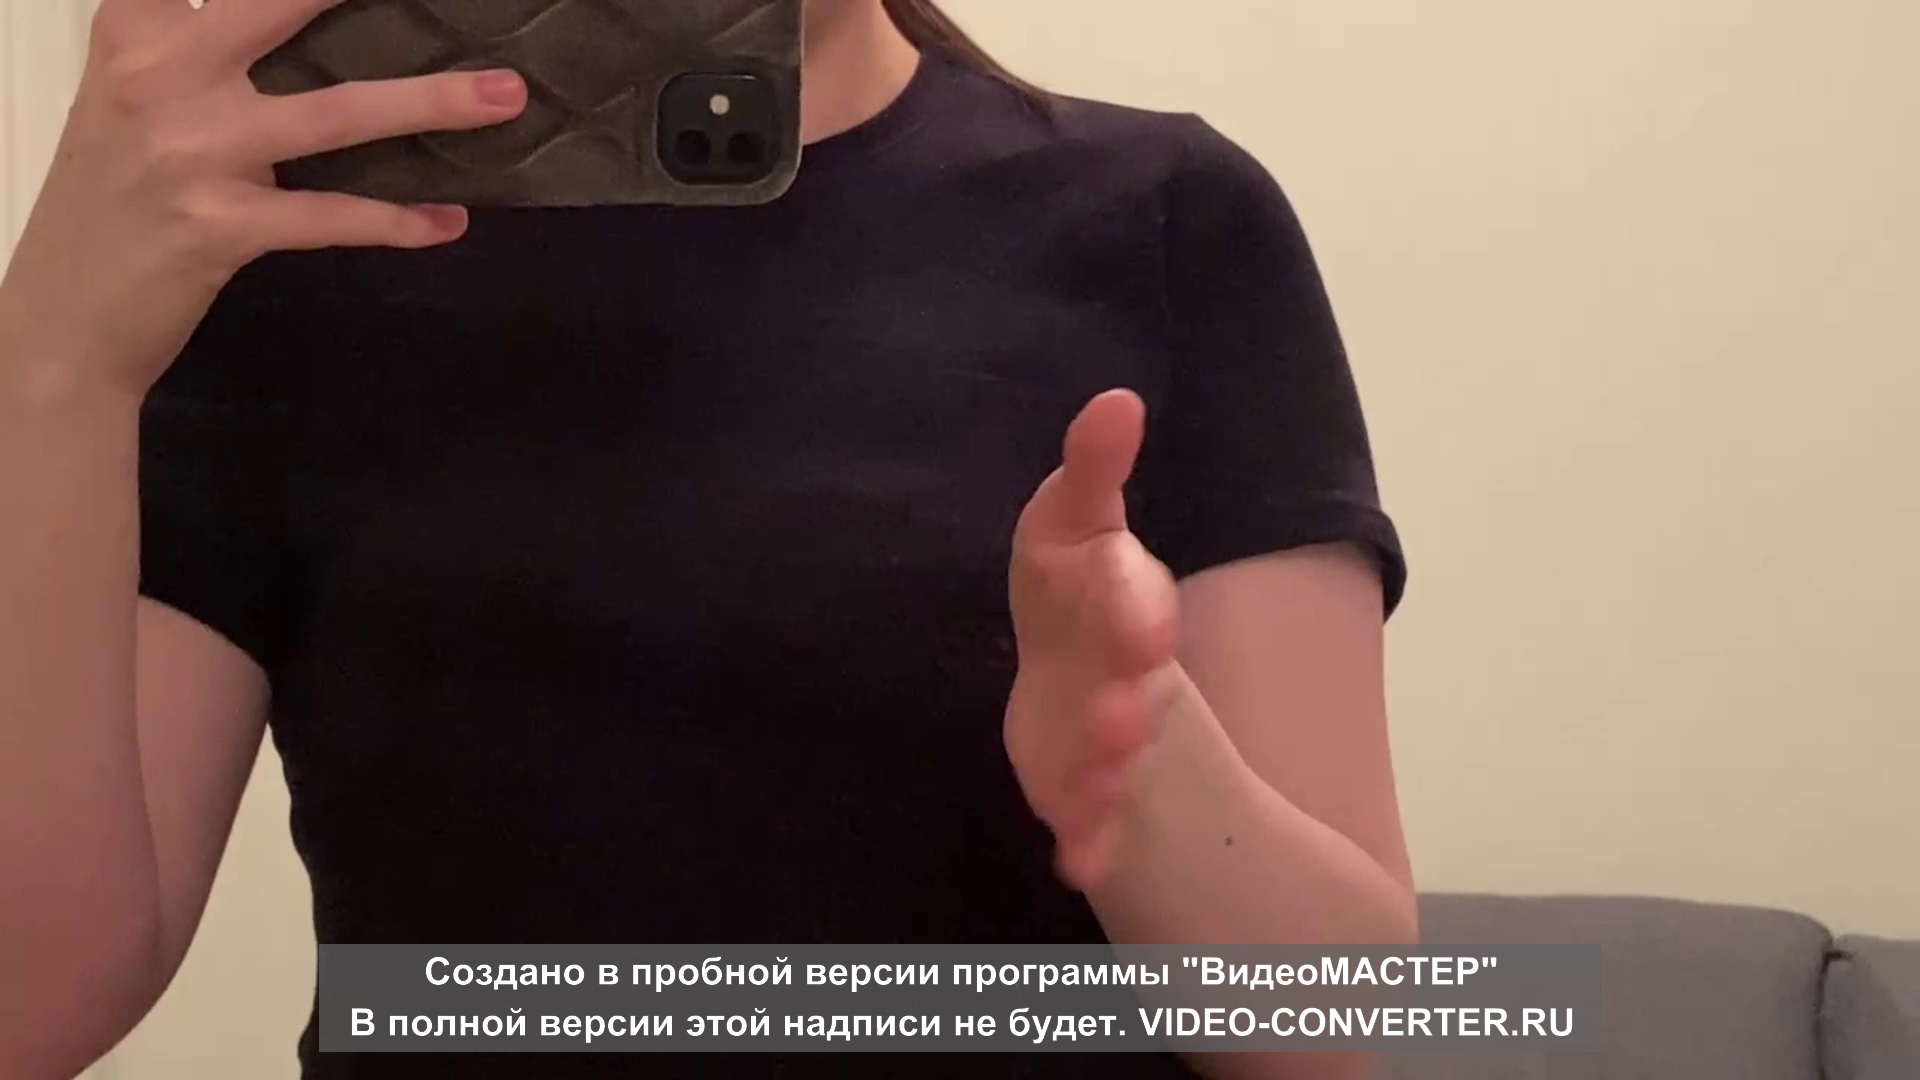Ладонь: (998, 388, 1182, 891)
